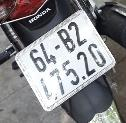0: (86, 41, 109, 69)
2: (65, 18, 90, 49), (74, 49, 98, 78)
4: (37, 75, 60, 105), (37, 40, 59, 69)
5: (60, 58, 82, 88)
6: (26, 46, 50, 76)
7: (48, 67, 71, 96)
B: (55, 27, 78, 56)
